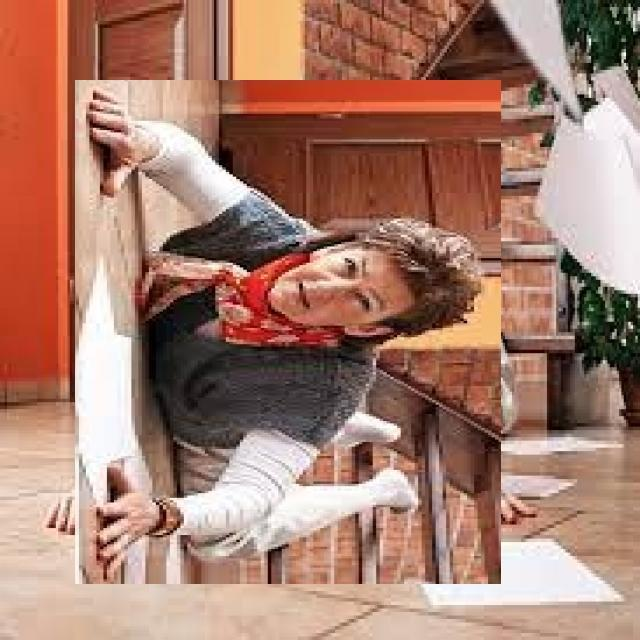Fall: (75, 81, 470, 568)
